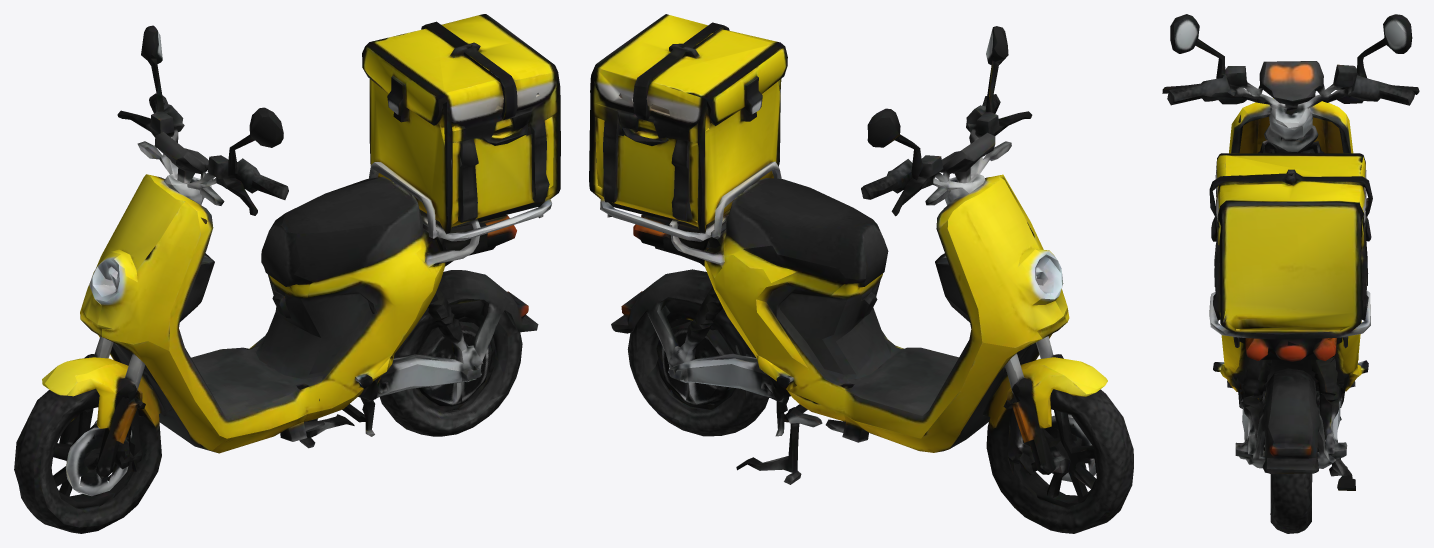
The model's file is scooter.glb.
3 renders of one model, left to right at view 1: azimuth 30°, elevation 25°; view 2: azimuth 150°, elevation 25°; view 3: azimuth 270°, elevation 25°, orthographic. The views are drawn at different scales.
Parts seen in each view (by area): view 1: world; view 2: world; view 3: world.
Part boxes in pixels (x1=…): world: x1=14, y1=14, x2=560, y2=533; world: x1=589, y1=14, x2=1133, y2=533; world: x1=1162, y1=14, x2=1419, y2=533.
Bounding box in the file's own units: 1.8 × 1.46 × 0.8321.
Materials: 1 (1 with a texture image).
